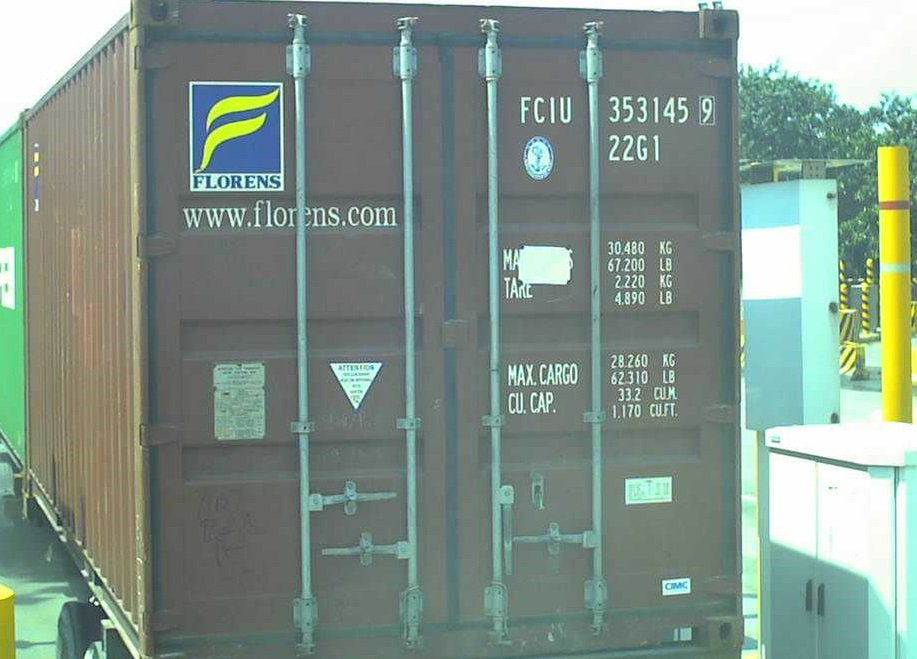container_door: (134, 1, 741, 659)
